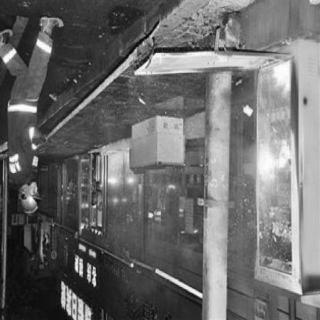Fire: (142, 174, 196, 244), (230, 77, 252, 193), (105, 174, 143, 213), (60, 179, 94, 219), (270, 60, 294, 102), (263, 287, 284, 320), (76, 245, 102, 263), (290, 293, 301, 320)
